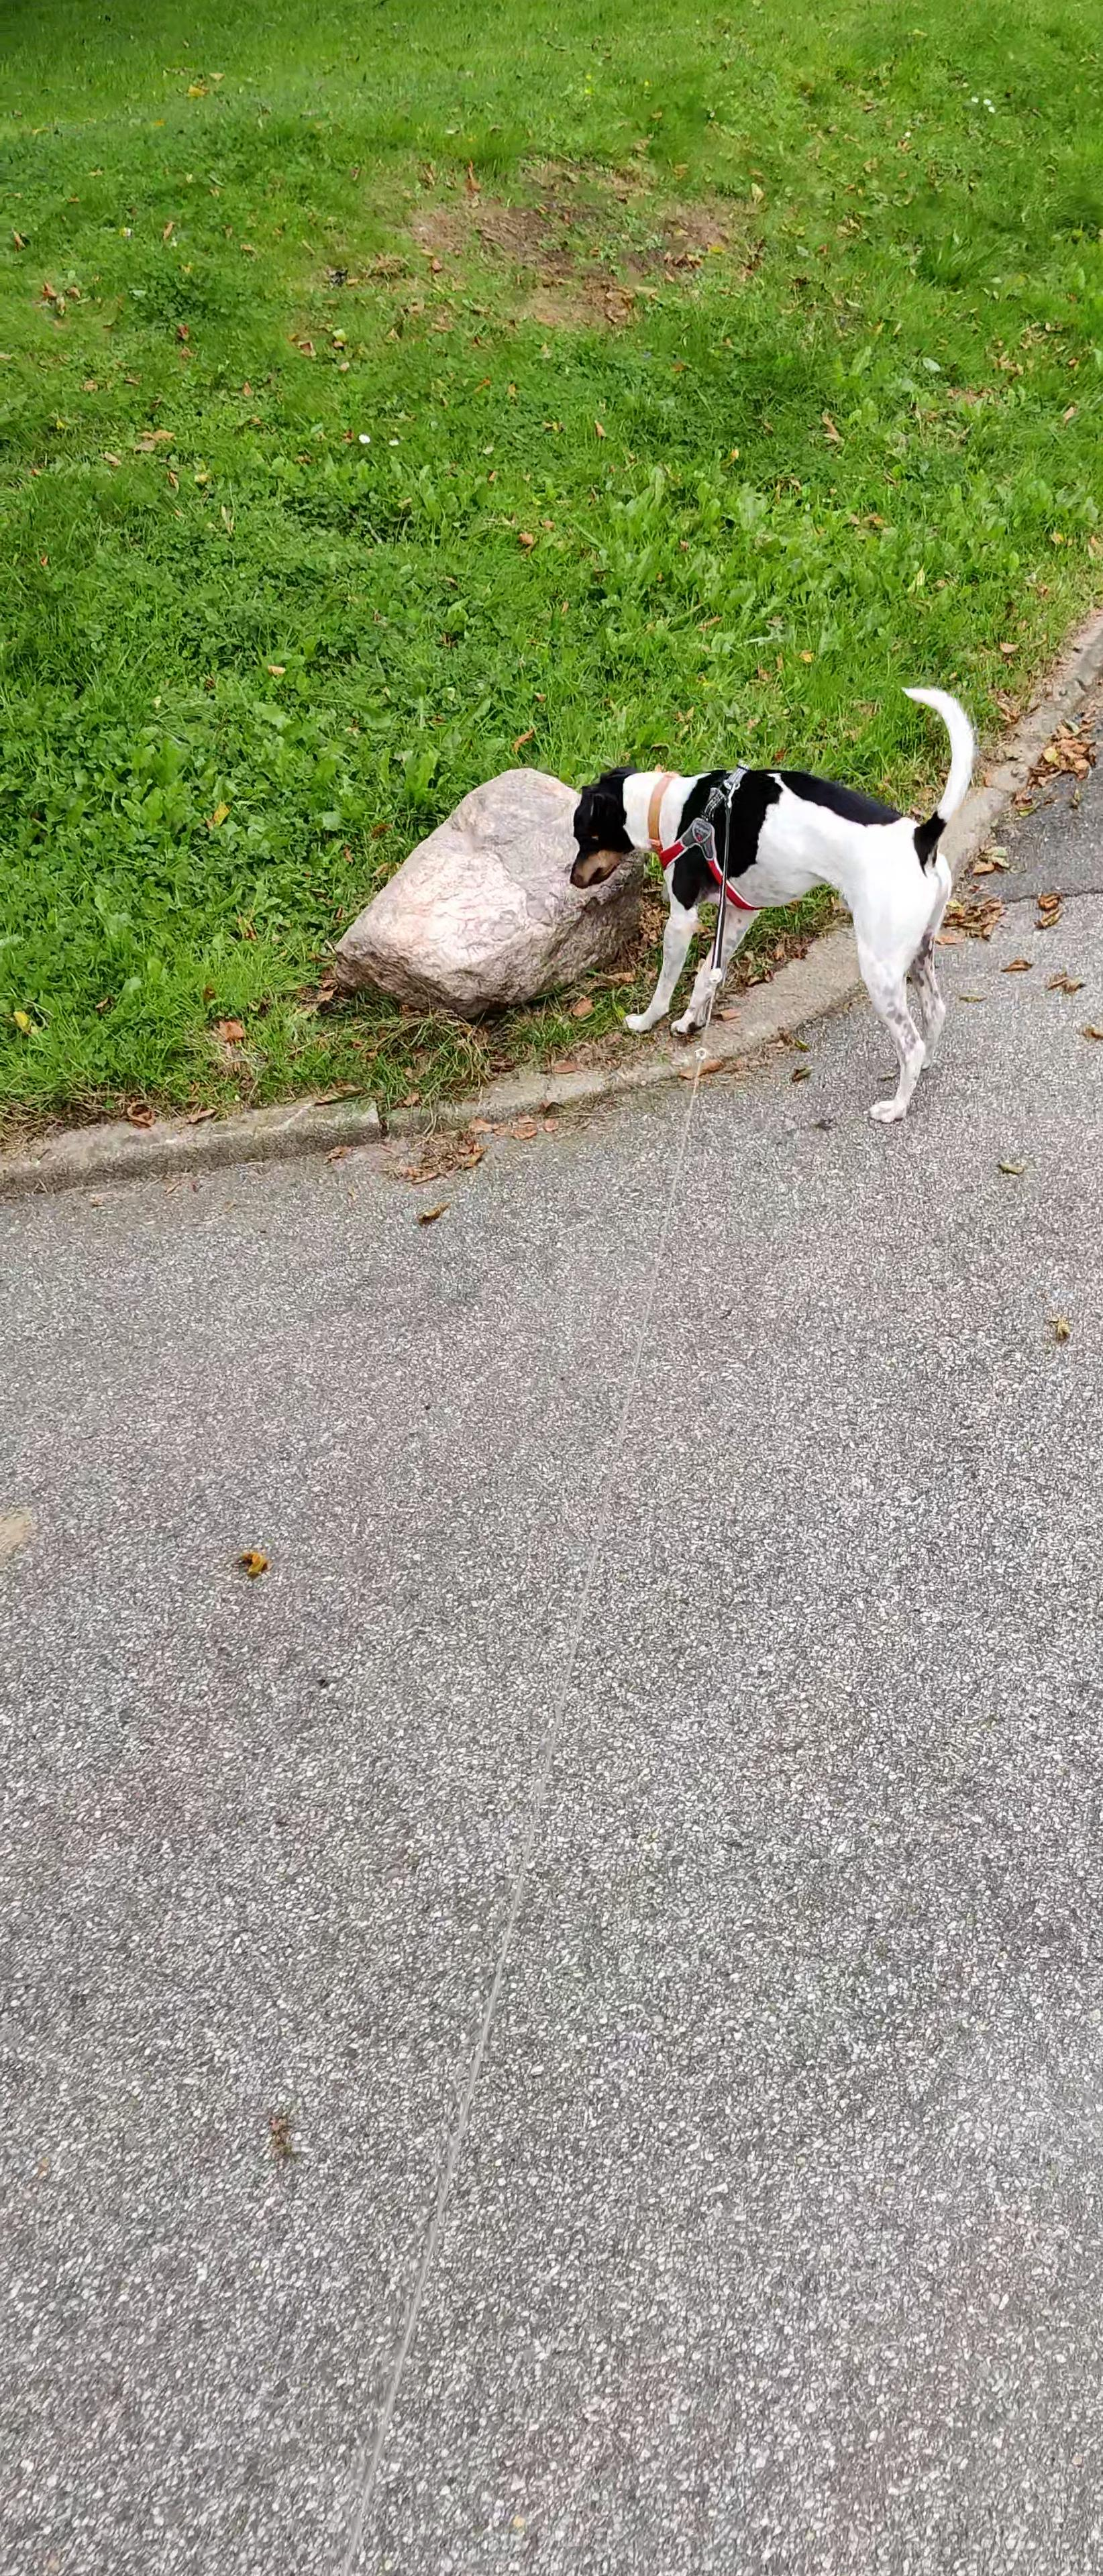Dog: (552, 660, 993, 1145)
